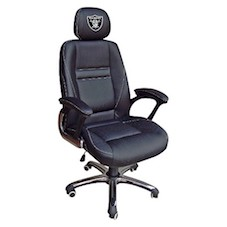chair: (36, 5, 203, 222)
